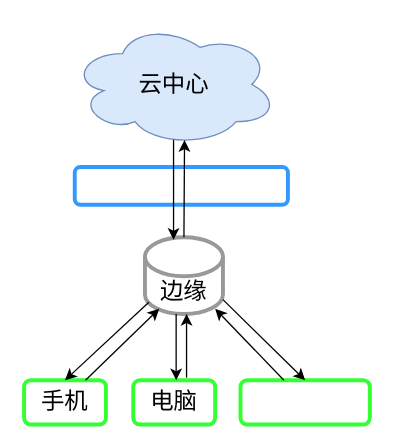
This 394x448 diagram has some shape labels left out. Here are the shapes that lost their labels. From the top down, the box of each, then its label:
(72, 164, 289, 206): 网络
(238, 378, 371, 426): 可穿戴设备
